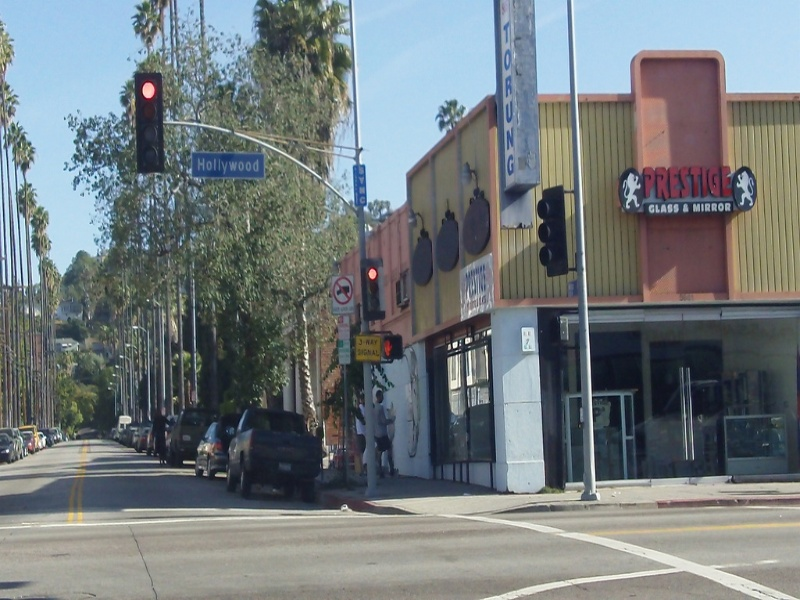red_light: (126, 76, 167, 118)
